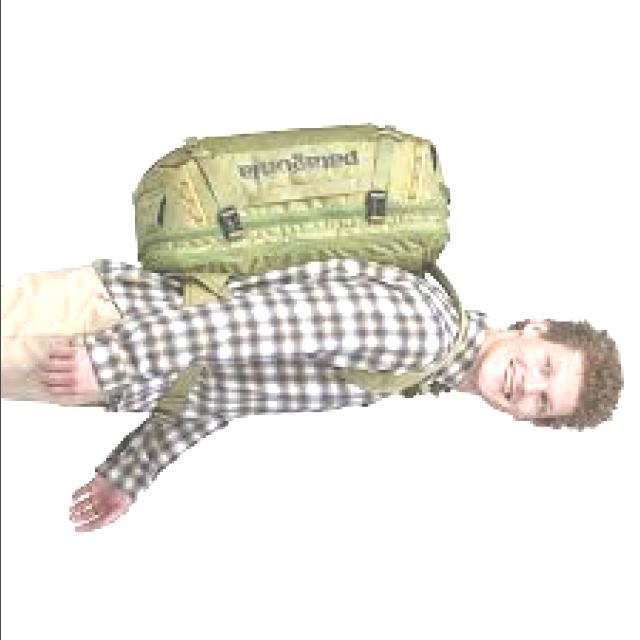backpack: (132, 121, 468, 400)
